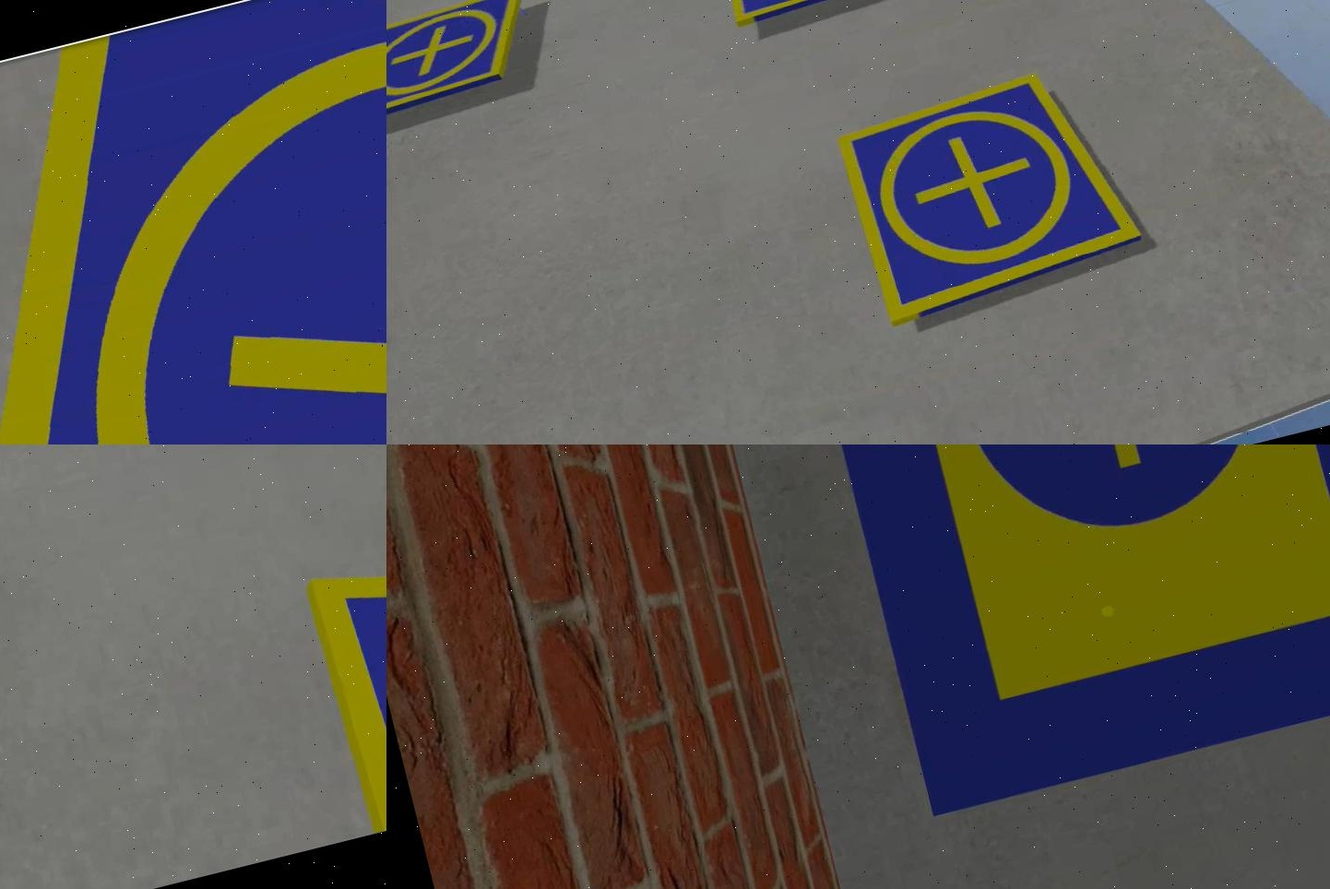large_base: (797, 445, 1328, 819)
small_base: (0, 1, 385, 445), (824, 53, 1152, 341), (300, 531, 385, 835), (385, 1, 546, 137), (710, 1, 901, 33)
